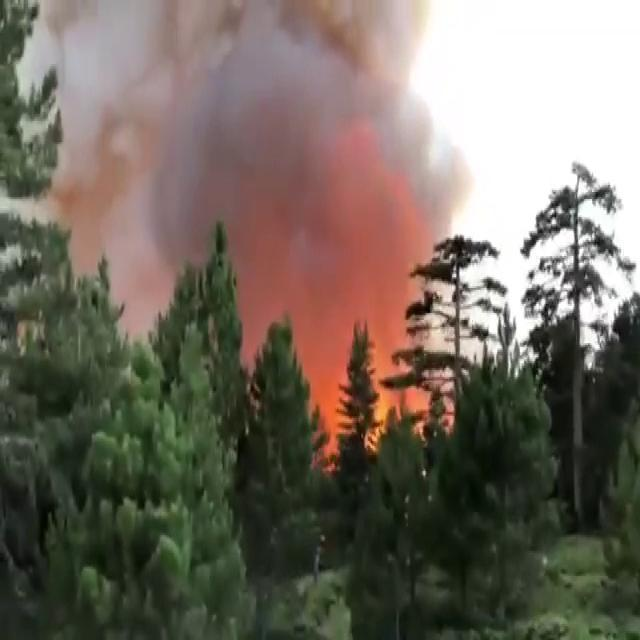Fire: (265, 212, 451, 450)
Smoke: (42, 13, 241, 241), (237, 12, 430, 166)
